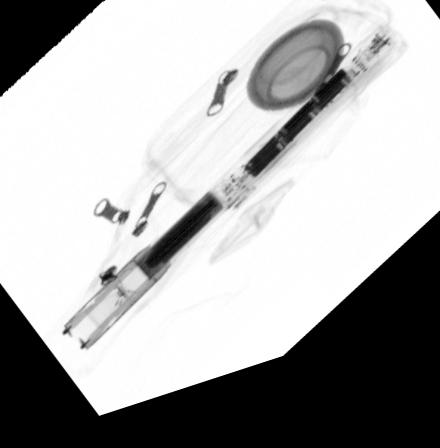Baton: (57, 47, 396, 359)
